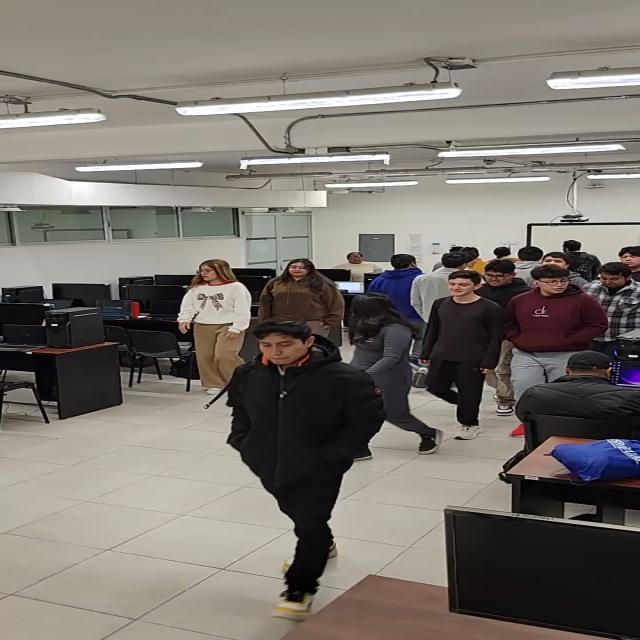Persona: (236, 322, 368, 599), (350, 295, 424, 450), (441, 270, 491, 430), (526, 267, 592, 357), (190, 258, 242, 364), (273, 261, 340, 326), (594, 262, 638, 336), (484, 259, 516, 296), (337, 252, 376, 274)
